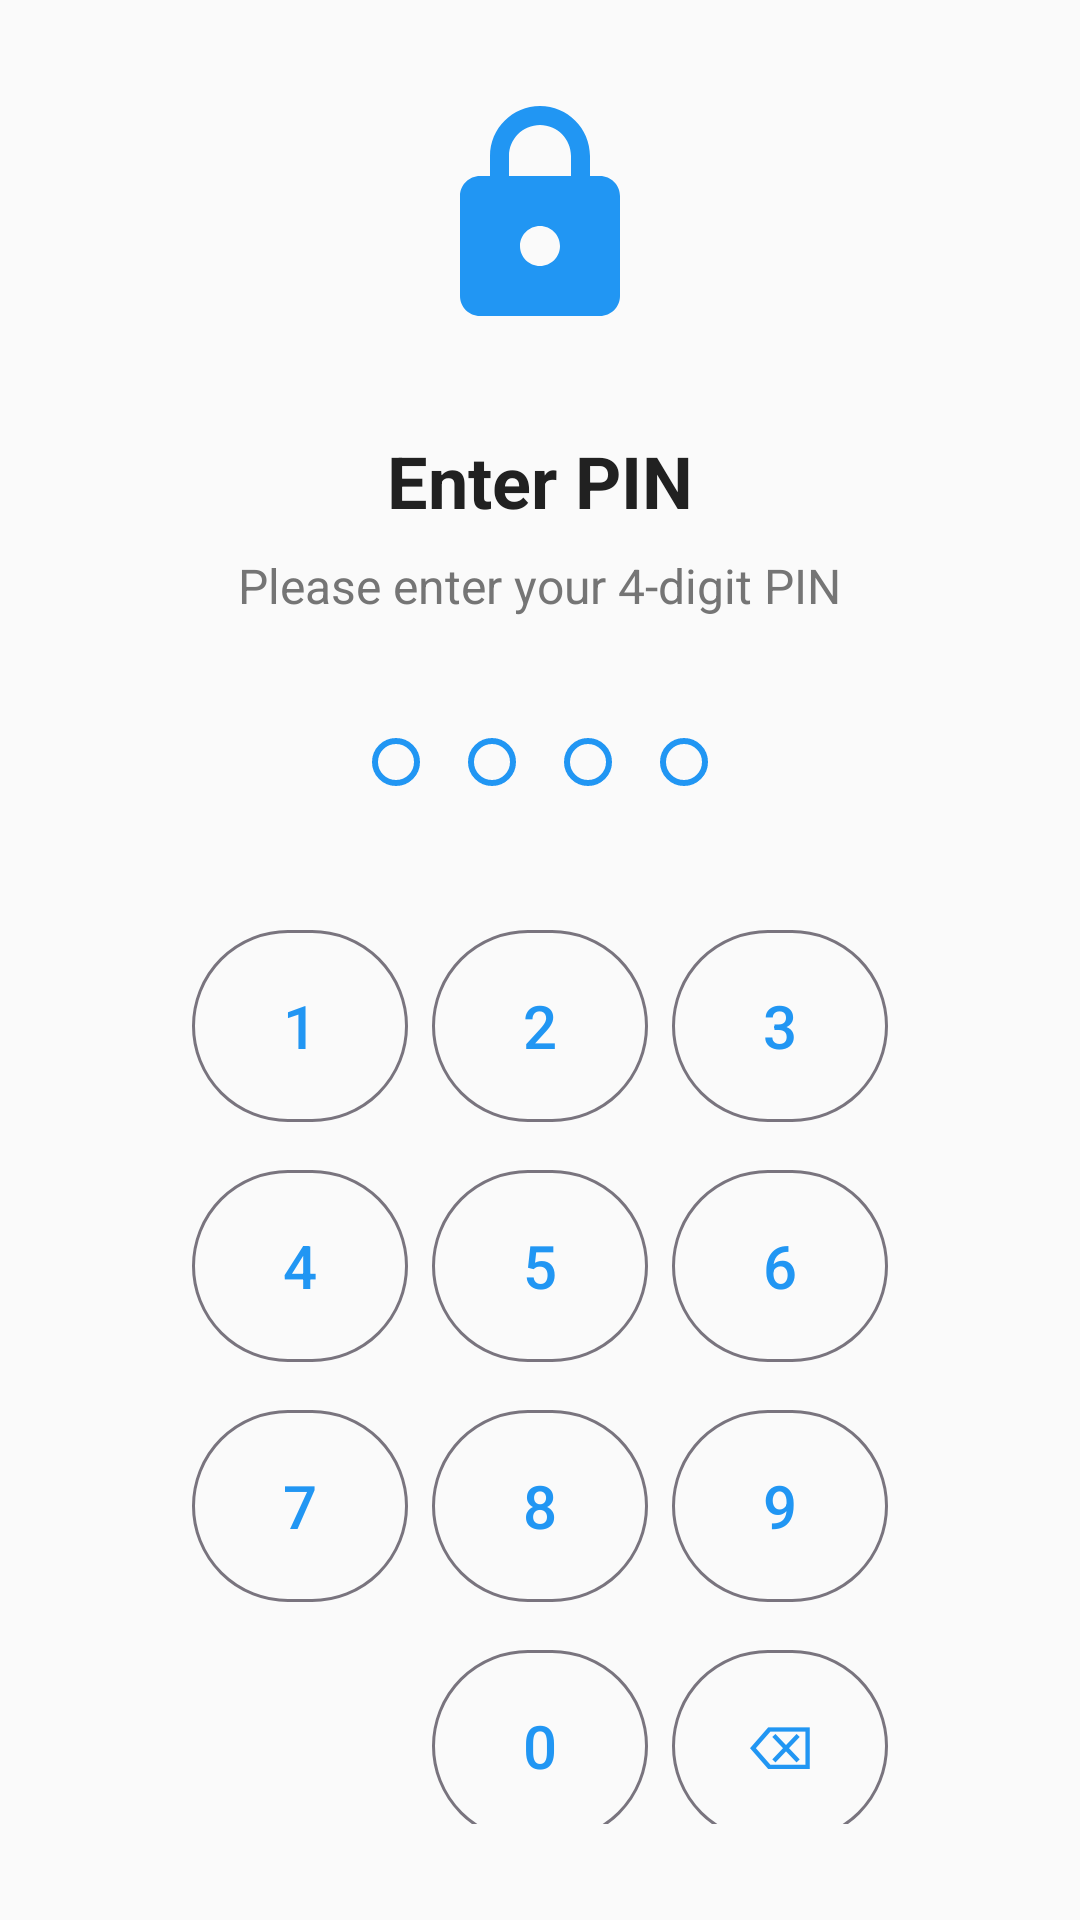

Named icons in this screenshot (1080px x 1920px) and their bounding boxes, [x1=x1, y1=y1, x2=x2, y2=y2]:
lock: [x1=460, y1=106, x2=620, y2=316]
pin dot empty: [x1=372, y1=738, x2=420, y2=786], [x1=468, y1=738, x2=516, y2=786], [x1=564, y1=738, x2=612, y2=786], [x1=660, y1=738, x2=708, y2=786]
